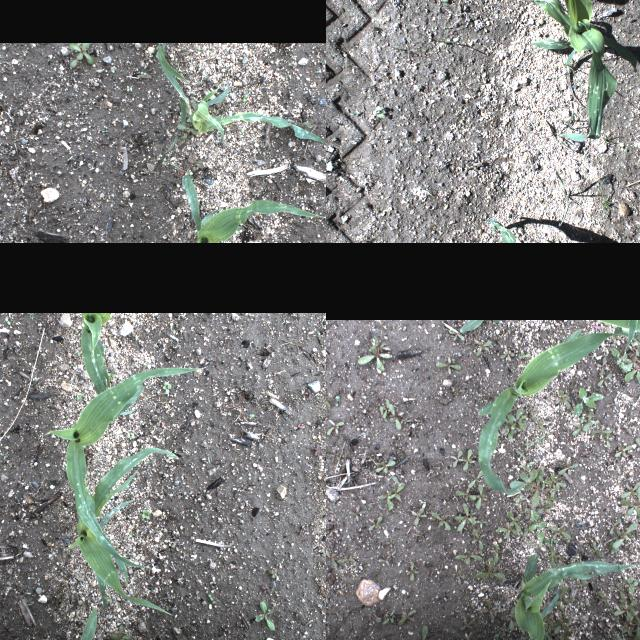crop: (43, 365, 209, 569), (478, 325, 640, 494), (68, 448, 180, 616), (506, 0, 617, 135), (162, 80, 326, 154), (514, 554, 640, 640), (178, 174, 326, 243), (80, 312, 116, 393), (492, 217, 604, 243), (156, 42, 192, 120), (596, 319, 640, 361), (75, 605, 98, 640), (458, 319, 502, 331)
weed: (508, 467, 548, 507), (357, 336, 393, 372), (574, 388, 604, 417), (610, 521, 638, 549), (252, 602, 278, 632), (473, 556, 505, 580), (621, 342, 640, 382), (620, 484, 640, 519), (454, 502, 476, 532), (568, 560, 592, 586), (609, 345, 633, 371), (68, 42, 96, 64), (170, 162, 198, 184), (528, 508, 548, 538), (434, 354, 464, 374), (264, 556, 288, 580), (504, 406, 528, 430), (612, 598, 638, 620), (108, 619, 133, 640), (554, 585, 574, 611), (454, 550, 484, 566), (430, 511, 452, 532), (411, 624, 439, 640), (388, 402, 404, 430), (466, 466, 486, 488), (581, 410, 601, 432), (558, 455, 580, 475), (286, 416, 310, 434), (386, 480, 406, 500), (552, 616, 572, 636), (549, 523, 571, 541), (627, 610, 640, 640), (177, 123, 200, 139), (326, 417, 345, 436), (202, 451, 220, 471), (347, 505, 367, 523), (396, 608, 416, 626), (410, 506, 428, 526), (448, 448, 466, 468), (473, 338, 493, 356), (406, 560, 422, 582), (374, 458, 396, 474), (470, 528, 486, 550), (596, 588, 612, 610), (620, 480, 640, 497), (462, 447, 476, 471), (506, 511, 522, 532), (594, 356, 612, 374), (596, 370, 614, 388), (258, 581, 278, 597), (378, 489, 394, 509), (458, 616, 478, 632), (482, 600, 498, 620), (490, 544, 506, 564), (558, 389, 574, 409), (548, 474, 568, 490), (587, 540, 603, 560), (447, 326, 467, 342), (138, 507, 160, 521), (454, 486, 476, 500), (570, 422, 592, 436), (590, 424, 612, 438), (307, 439, 326, 455), (186, 156, 204, 172), (301, 385, 319, 401), (366, 515, 384, 531), (474, 484, 486, 508), (506, 606, 518, 630), (496, 526, 520, 538), (530, 414, 546, 432), (538, 609, 554, 627), (614, 444, 634, 458), (548, 545, 560, 567), (499, 346, 515, 362), (161, 379, 175, 397), (163, 324, 184, 336), (382, 607, 396, 625), (504, 425, 518, 443), (600, 430, 614, 448), (620, 622, 638, 636), (628, 606, 640, 625), (247, 410, 263, 424), (552, 391, 568, 405), (538, 500, 554, 514), (626, 577, 640, 593), (608, 518, 622, 534), (326, 548, 337, 568), (449, 384, 466, 396), (193, 508, 207, 522), (507, 418, 521, 432), (537, 533, 551, 547), (537, 474, 553, 486), (326, 449, 340, 462), (379, 404, 389, 422), (382, 398, 391, 418), (334, 556, 356, 564), (72, 390, 86, 402), (378, 554, 392, 566), (372, 610, 386, 622), (544, 495, 558, 507), (546, 483, 558, 497), (456, 570, 466, 586), (610, 331, 622, 344), (70, 55, 82, 67), (3, 313, 15, 325), (1, 446, 10, 462), (203, 592, 215, 604), (390, 474, 402, 486), (524, 508, 536, 520), (546, 622, 558, 634), (326, 507, 339, 518), (177, 131, 191, 141), (474, 518, 488, 528), (512, 493, 526, 503), (522, 522, 532, 536), (559, 630, 573, 640), (622, 424, 636, 434), (517, 349, 531, 359), (617, 584, 625, 600), (326, 386, 332, 407), (461, 631, 475, 640), (386, 538, 396, 550), (514, 450, 526, 460), (528, 404, 538, 416), (569, 384, 581, 394), (553, 557, 563, 569), (623, 592, 635, 602), (334, 394, 342, 408), (493, 630, 507, 638), (519, 461, 533, 469), (387, 549, 398, 559), (527, 437, 537, 448), (382, 504, 392, 514), (541, 432, 551, 442), (608, 542, 618, 552), (625, 532, 635, 542), (26, 314, 38, 322), (326, 574, 334, 586), (400, 416, 412, 424), (454, 479, 464, 488), (557, 613, 567, 621), (610, 582, 620, 590), (468, 508, 474, 520), (503, 558, 512, 566), (547, 538, 559, 544), (477, 396, 489, 402), (535, 434, 545, 441), (611, 633, 621, 640), (636, 437, 640, 454), (524, 438, 530, 449), (160, 157, 168, 165), (405, 422, 413, 430), (583, 600, 591, 608), (469, 451, 476, 459), (242, 92, 248, 101), (66, 155, 74, 161), (636, 334, 640, 345), (180, 240, 191, 243), (451, 571, 459, 575), (580, 415, 584, 423), (174, 59, 178, 66), (126, 85, 130, 91), (140, 70, 146, 74), (111, 66, 115, 72), (194, 46, 200, 50), (258, 148, 262, 154), (419, 501, 426, 504), (102, 130, 108, 132), (260, 175, 264, 178), (240, 126, 242, 130)
